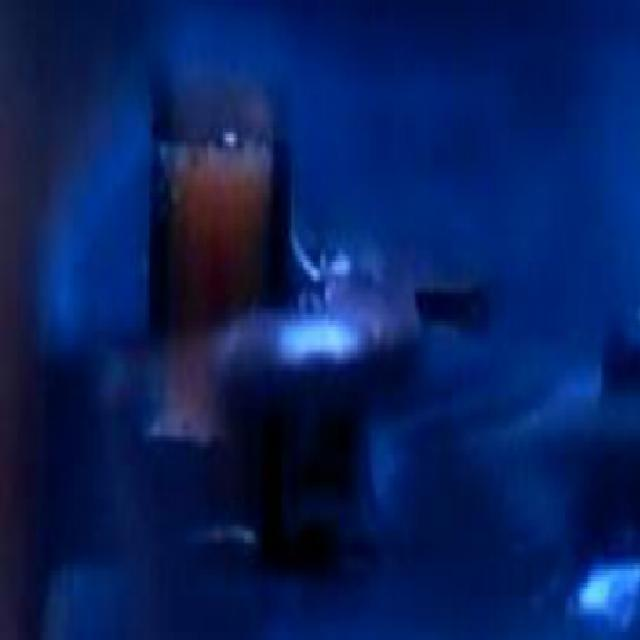No Good: (274, 183, 367, 296)
